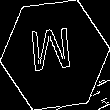M_S: (31, 28, 79, 82)
